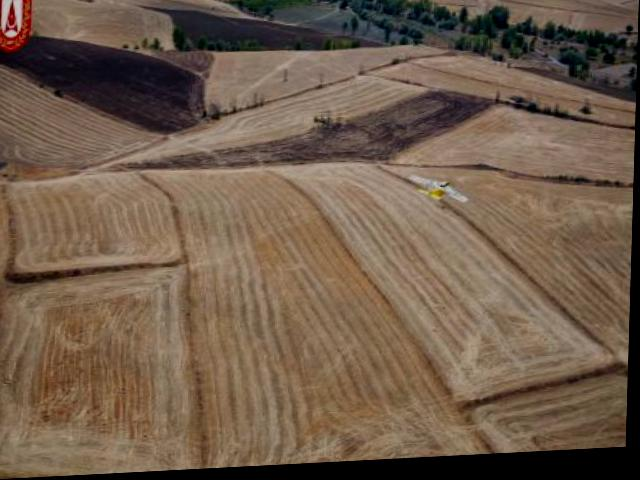uav: (407, 177, 473, 212)
